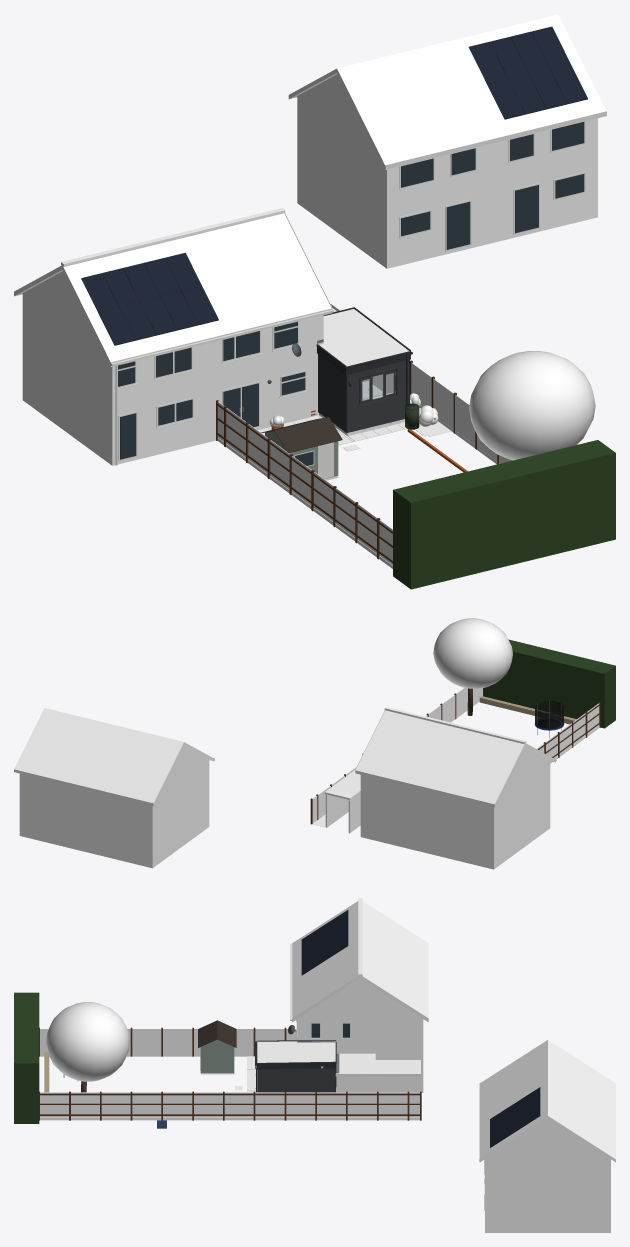
The model's file is Пристройка_3D.glb.
The picture shows the model from 3 angles, top to bottom: view 1: azimuth 30°, elevation 25°; view 2: azimuth 150°, elevation 25°; view 3: azimuth 270°, elevation 25°; orthographic projection. The views are drawn at different scales.
Visible parts, largest first — view 1: EX-NB-W, EX-HEDGE, EX-NB-RR, EX-HOUSE-N, EX-ROOF-R, EX-TREE-C, EX-HOUSE, EX-NB-G, EX-GABLE-N, RC-EPDM-A, EX-NB-PV3, EX-NB-PV2 (+22 smaller); view 2: EX-NB-W, EX-NB-RF, EX-ROOF-F, EX-HOUSE-N, EX-HEDGE, EX-TREE-C, EX-HOUSE, EX-GABLE-N, EX-NB-G, EX-GAR-ROOF, EX-RIDGE, EX-GAR-SR (+2 smaller); view 3: EX-NB-W, EX-NB-RF, EX-ROOF-F, EX-TREE-C, EX-HOUSE, EX-NB-RR, EX-ROOF-R, EX-HEDGE, EX-GABLE, EX-NB-G, EX-GAR-SR, EX-GAR-ROOF (+18 smaller).
Boxes of the visible parts, x1=… form: EX-NB-W: x1=297, y1=96, x2=597, y2=268; EX-HEDGE: x1=393, y1=440, x2=615, y2=589; EX-NB-RR: x1=337, y1=14, x2=606, y2=169; EX-HOUSE-N: x1=22, y1=293, x2=217, y2=465; EX-ROOF-R: x1=62, y1=213, x2=331, y2=366; EX-TREE-C: x1=469, y1=351, x2=595, y2=460; EX-HOUSE: x1=218, y1=315, x2=323, y2=429; EX-NB-G: x1=297, y1=74, x2=377, y2=154; EX-GABLE-N: x1=23, y1=271, x2=102, y2=351; RC-EPDM-A: x1=319, y1=329, x2=409, y2=366; EX-NB-PV3: x1=468, y1=41, x2=525, y2=119; EX-NB-PV2: x1=490, y1=37, x2=546, y2=114; EX-NB-W: x1=19, y1=759, x2=209, y2=868; EX-NB-RF: x1=14, y1=708, x2=184, y2=805; EX-ROOF-F: x1=355, y1=710, x2=525, y2=807; EX-HOUSE-N: x1=427, y1=761, x2=550, y2=869; EX-HEDGE: x1=483, y1=639, x2=615, y2=728; EX-TREE-C: x1=433, y1=618, x2=512, y2=688; EX-HOUSE: x1=360, y1=775, x2=427, y2=853; EX-GABLE-N: x1=500, y1=747, x2=549, y2=797; EX-NB-G: x1=158, y1=746, x2=208, y2=796; EX-GAR-ROOF: x1=324, y1=770, x2=360, y2=799; EX-RIDGE: x1=384, y1=707, x2=526, y2=743; EX-GAR-SR: x1=325, y1=794, x2=348, y2=827; EX-NB-W: x1=485, y1=1157, x2=610, y2=1232; EX-NB-RF: x1=548, y1=1040, x2=615, y2=1162; EX-ROOF-F: x1=360, y1=901, x2=428, y2=1022; EX-TREE-C: x1=46, y1=1002, x2=129, y2=1081; EX-HOUSE: x1=297, y1=1017, x2=423, y2=1092; EX-NB-RR: x1=479, y1=1040, x2=547, y2=1161; EX-ROOF-R: x1=292, y1=901, x2=360, y2=1022; EX-HEDGE: x1=14, y1=992, x2=39, y2=1123; EX-GABLE: x1=300, y1=979, x2=420, y2=1017; EX-NB-G: x1=488, y1=1119, x2=607, y2=1157; EX-GAR-SR: x1=337, y1=1076, x2=420, y2=1092; EX-GAR-ROOF: x1=335, y1=1060, x2=420, y2=1075.
Size of what is drawn, in the model's own units: 30.4 by 8.81 by 35.8.
